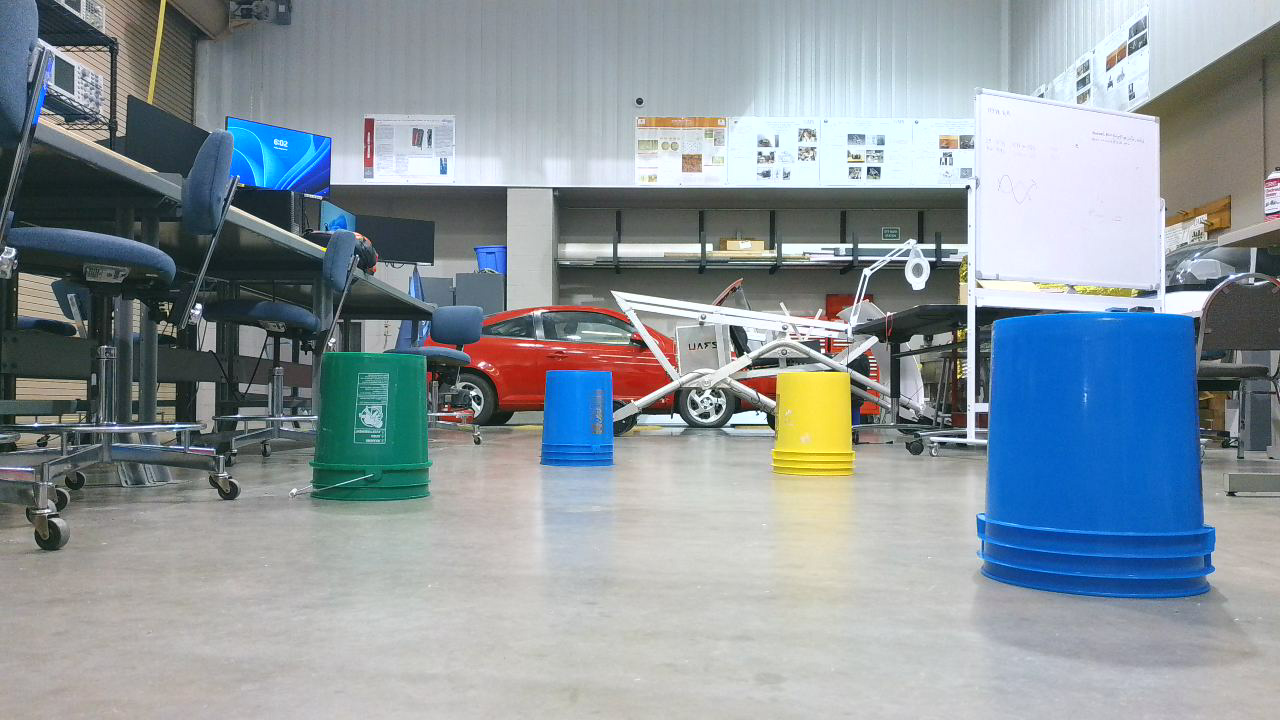blue_bucket: (973, 311, 1227, 607), (541, 371, 628, 477)
green_bucket_barrier: (307, 352, 442, 517)
yellow_bucket: (773, 374, 864, 485)
